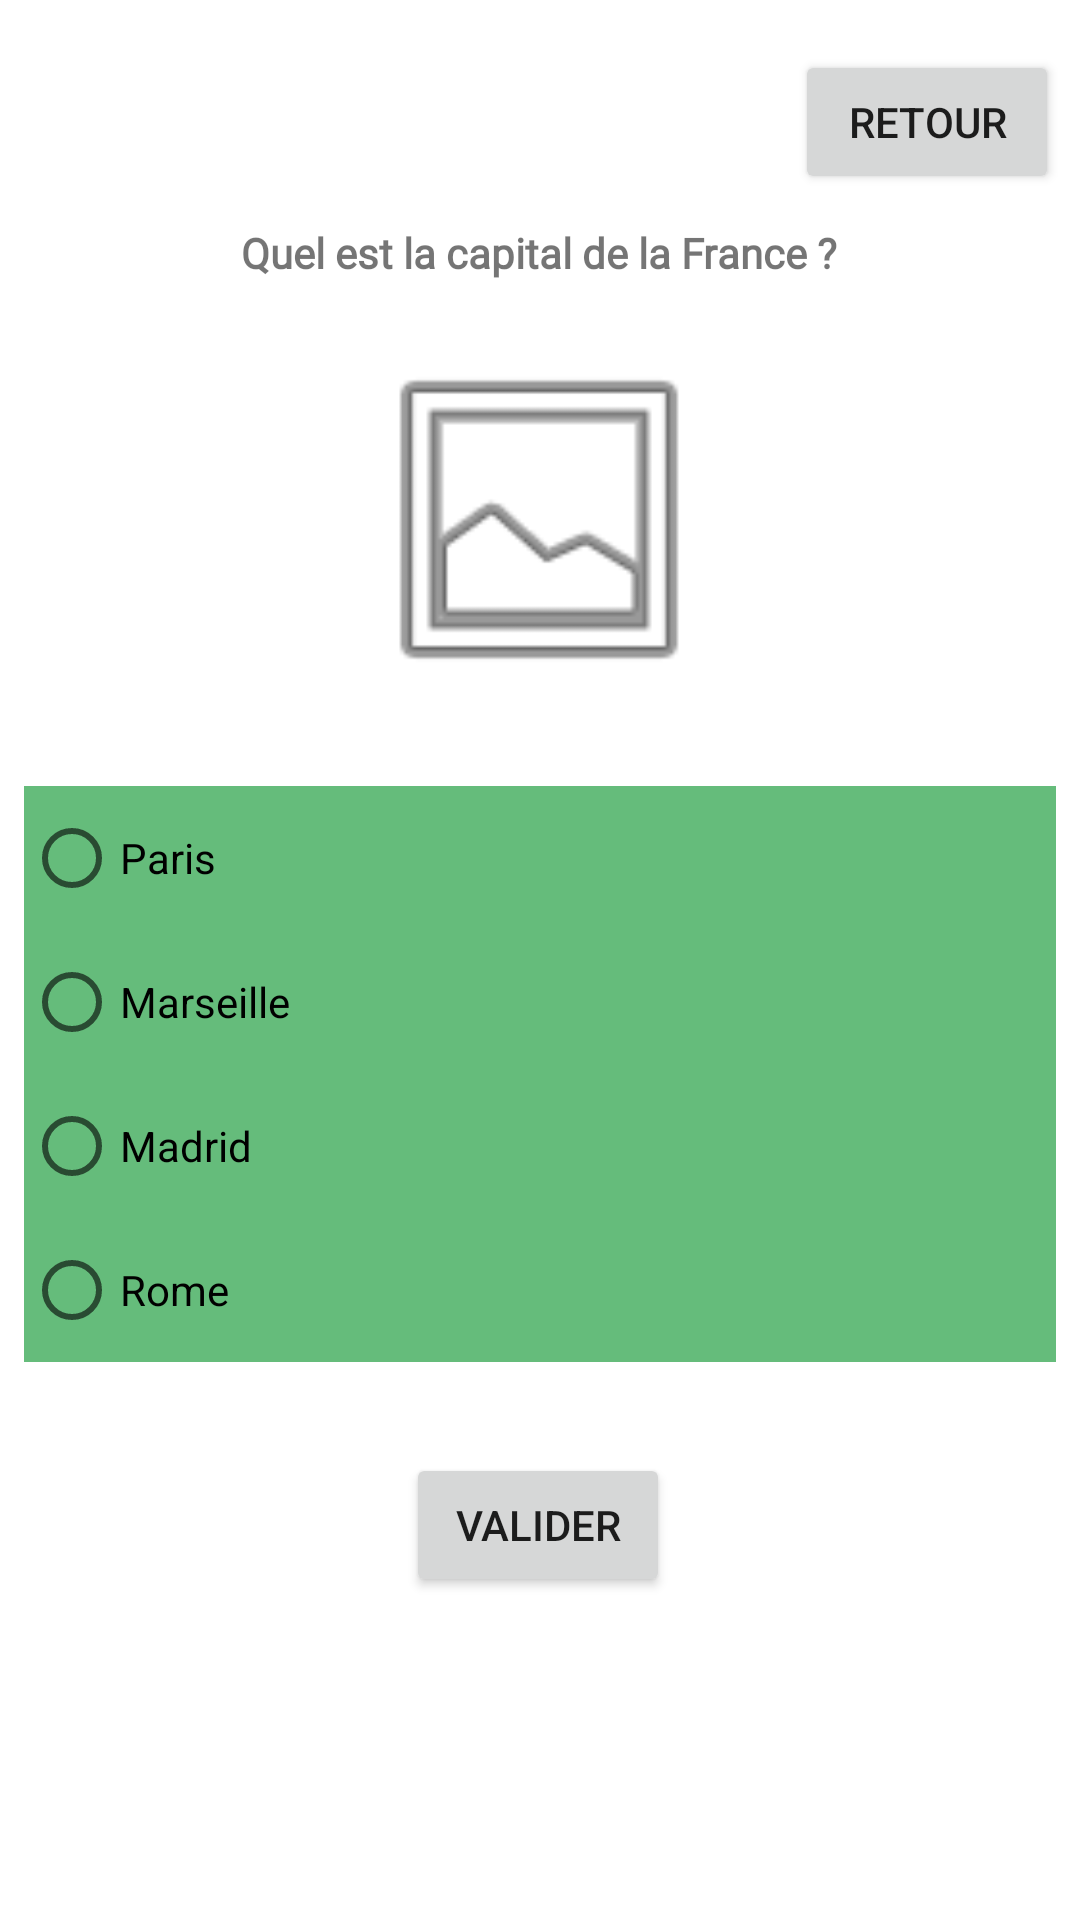

Icons on this 1080×1920 Android screen, each with its box as rect(x1, y1, x2, y2):
gallery: rect(400, 380, 678, 659)
